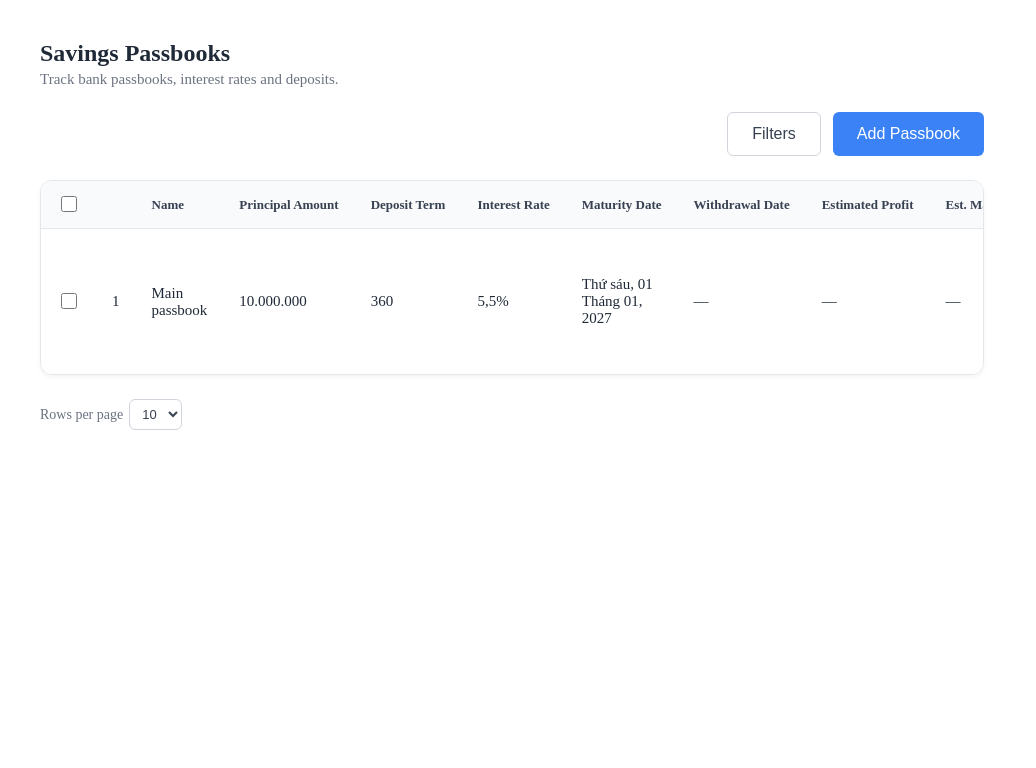
SavingsPassbooks › applies filters and sends operator-prefixed search params
expect the text "Main passbook" is shown: met, box [136, 228, 223, 374]
Click the button "Filters" at (774, 134), box [727, 112, 821, 156]
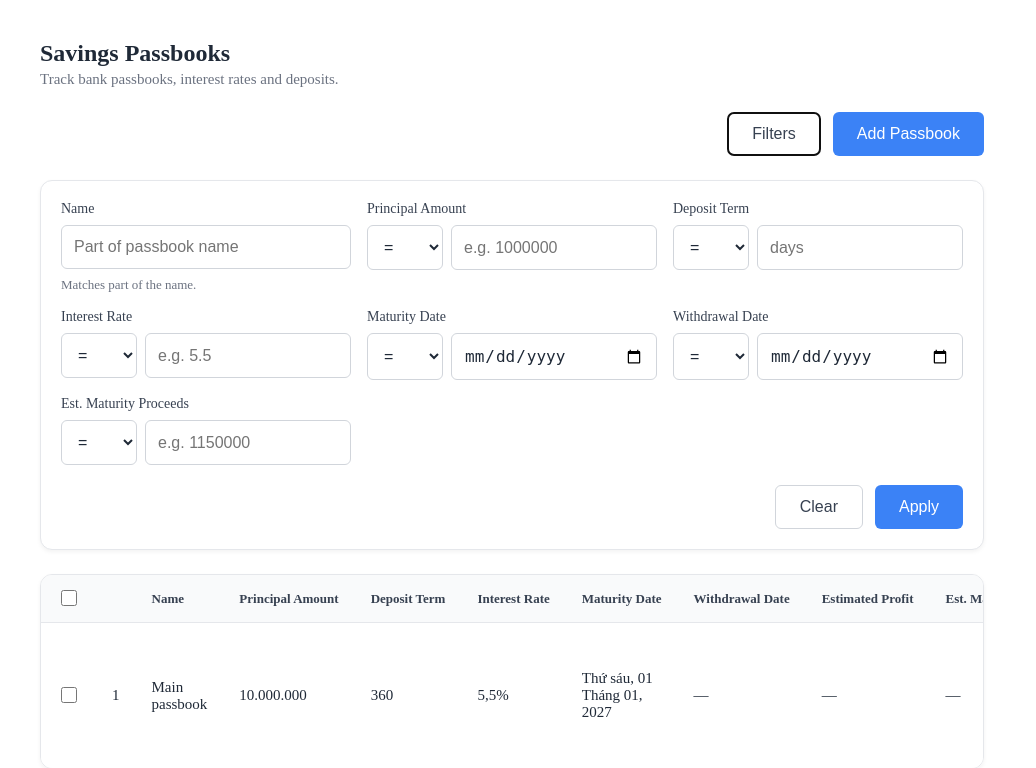
Type "Main passbook" into the field labelled "Name" at (206, 247), box [61, 225, 351, 269]
Select ">=" in the dropdown named "Principal amount operator" at (405, 248), box [367, 225, 443, 270]
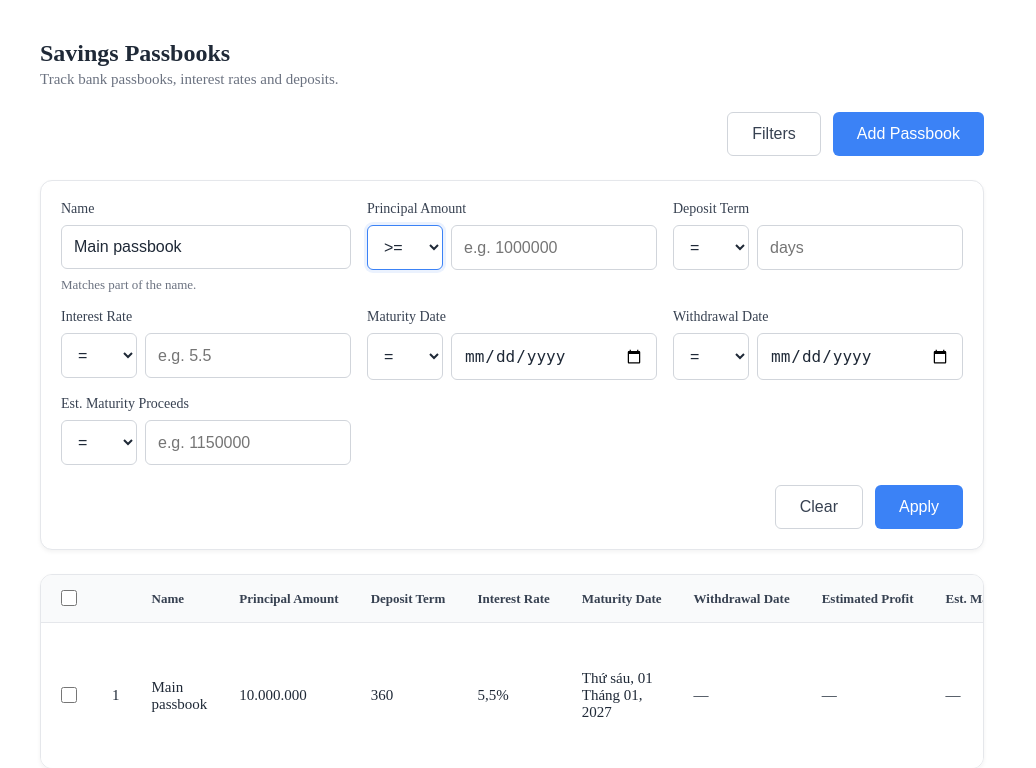
Type "1000000" into the field labelled "Principal Amount" at (554, 248), box [451, 225, 657, 270]
Select "<=" in the dropdown named "Maturity date operator" at (405, 356), box [367, 333, 443, 380]
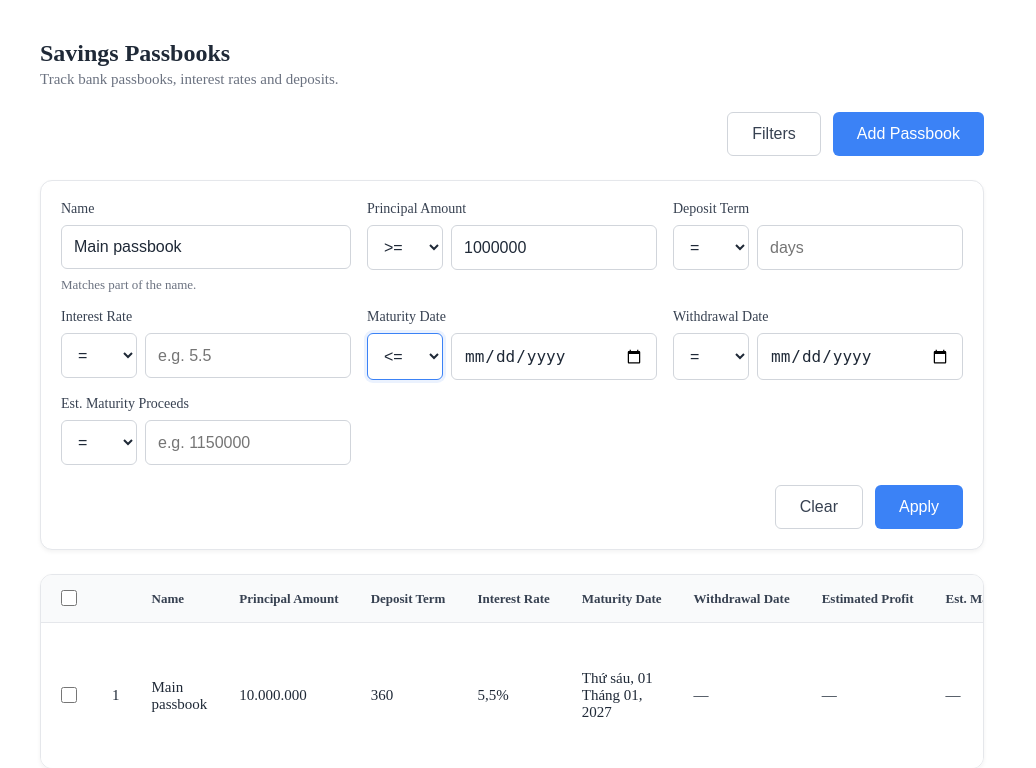
Type "2027-06-30" into the date field labelled "Maturity Date" at (554, 356), box [451, 333, 657, 380]
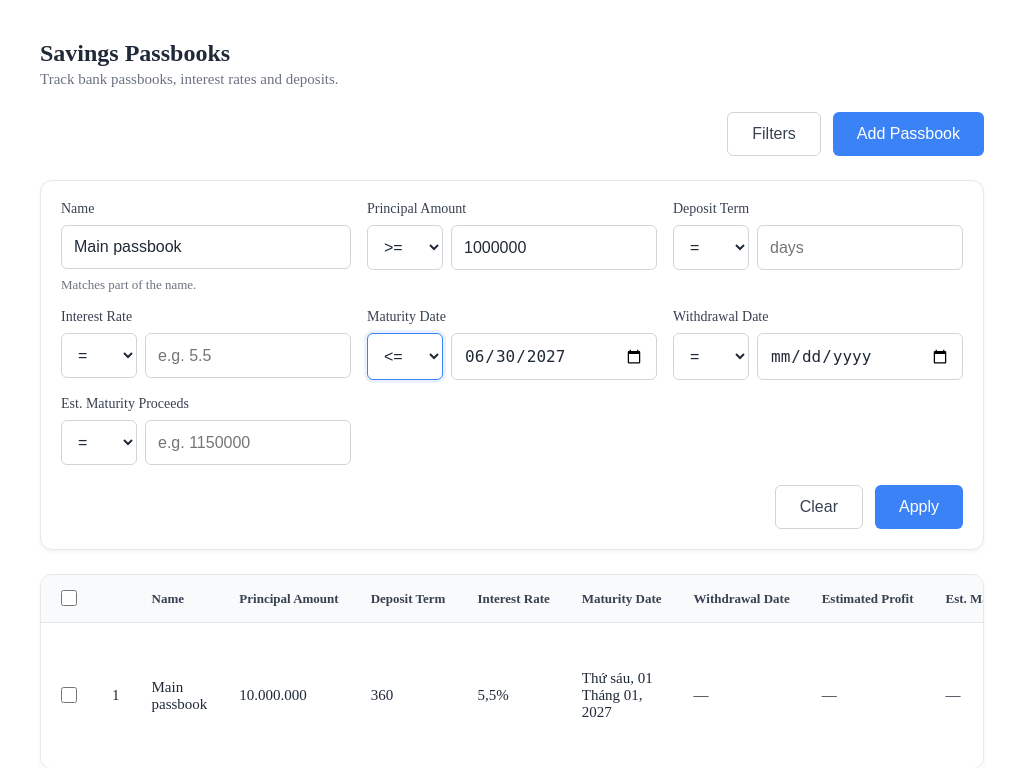
Type "360" into the field labelled "Deposit Term" at (860, 248), box [757, 225, 963, 270]
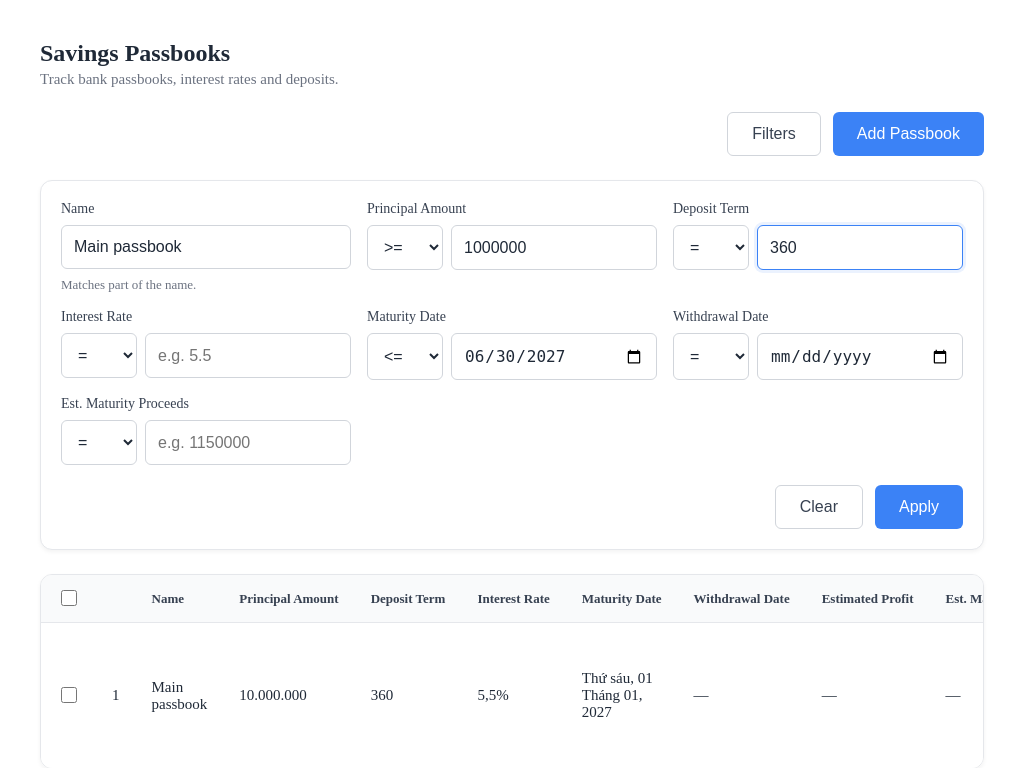
Click the button "Apply" at (919, 507), box [875, 485, 963, 529]
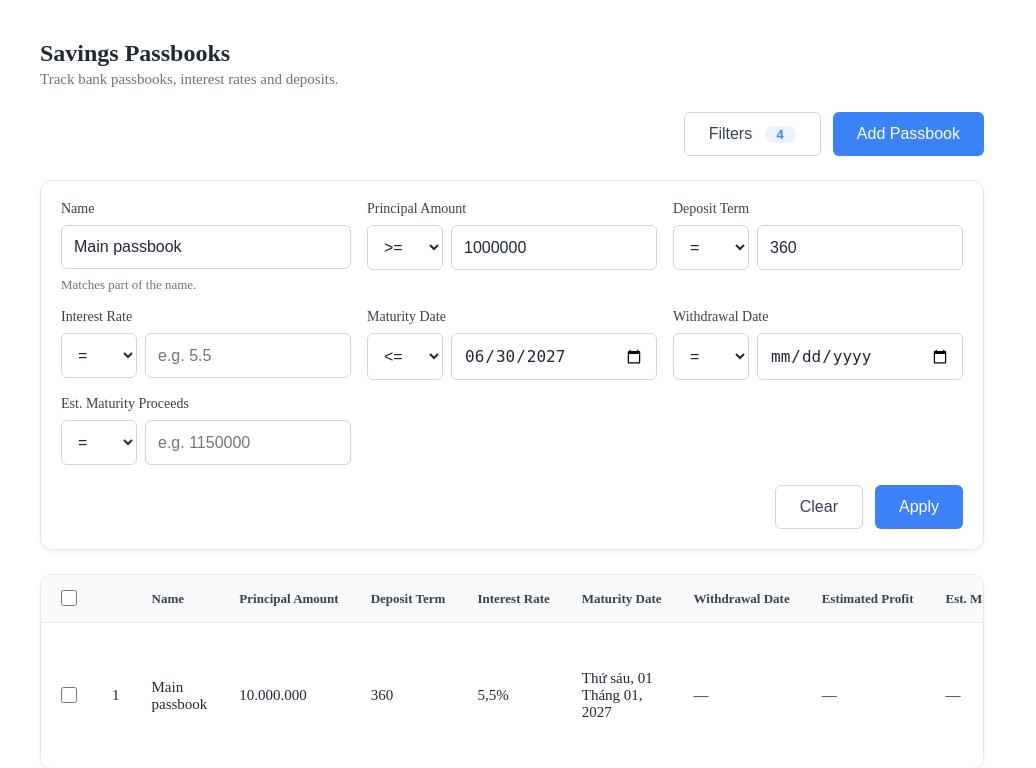
expect the cell "Main passbook" is shown: met, box [136, 622, 223, 767]
expect the text "4" is shown: met, box [765, 126, 796, 143]
